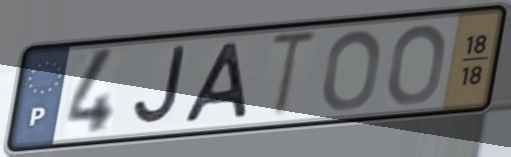4: (63, 45, 119, 140)
A: (180, 39, 253, 126)
J: (130, 43, 189, 129)
O: (319, 27, 385, 114), (384, 21, 450, 108)
T: (266, 29, 323, 123)
